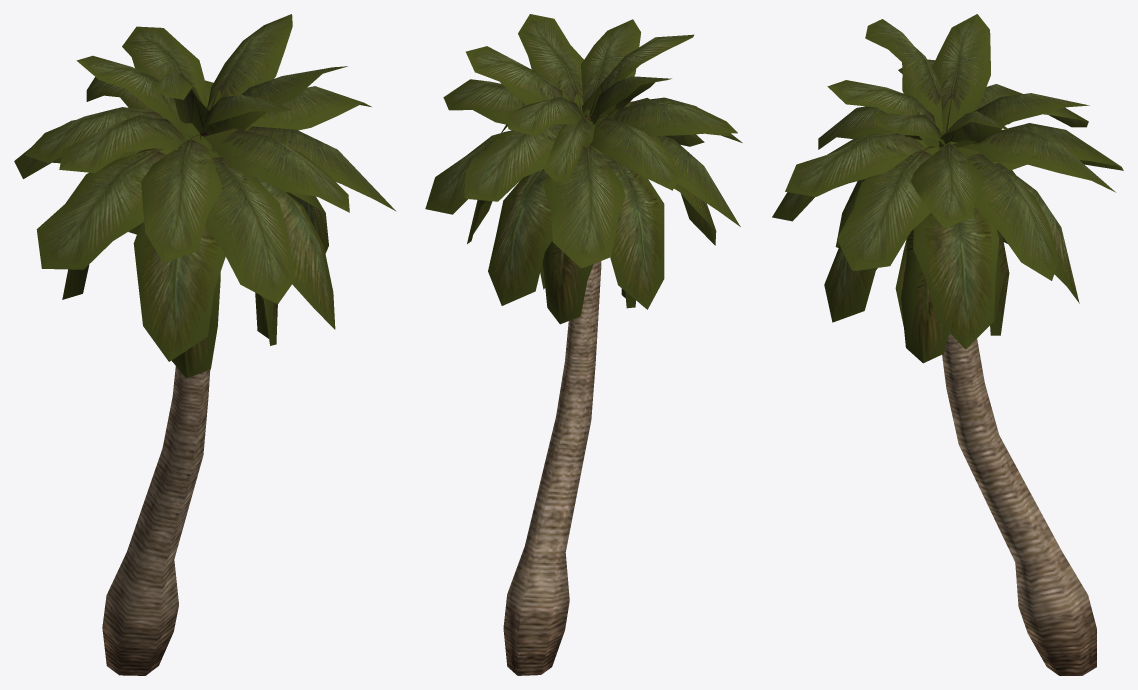
File: xssm_tree_c_01.FBX
3 views of the same model, side by side, from view 1: azimuth 30°, elevation 25°; view 2: azimuth 150°, elevation 25°; view 3: azimuth 270°, elevation 25° (orthographic). The views are drawn at different scales.
Parts seen in each view (by area): view 1: xssm_tree_c_01; view 2: xssm_tree_c_01; view 3: xssm_tree_c_01.
Boxes of the visible parts, left/top/right/bottom form: xssm_tree_c_01: left=14, top=14, right=396, bottom=675; xssm_tree_c_01: left=425, top=14, right=742, bottom=675; xssm_tree_c_01: left=772, top=14, right=1123, bottom=675.
Size of the model in its own units: 389 by 742 by 388.
